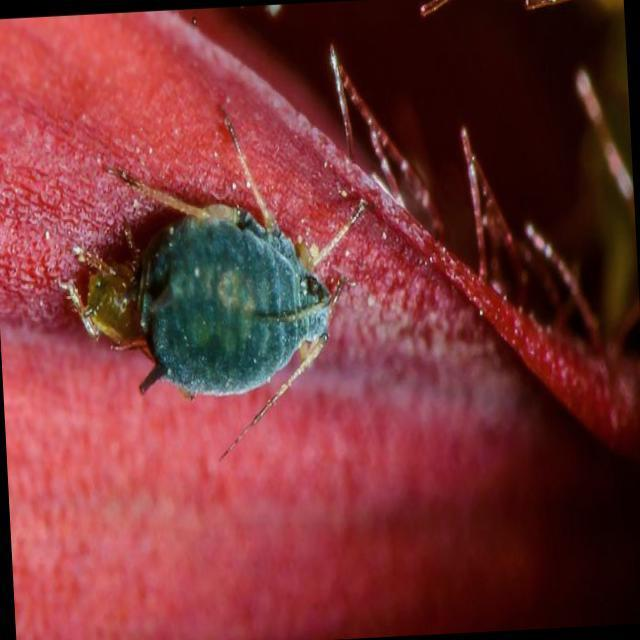aphid: (124, 162, 360, 438)
